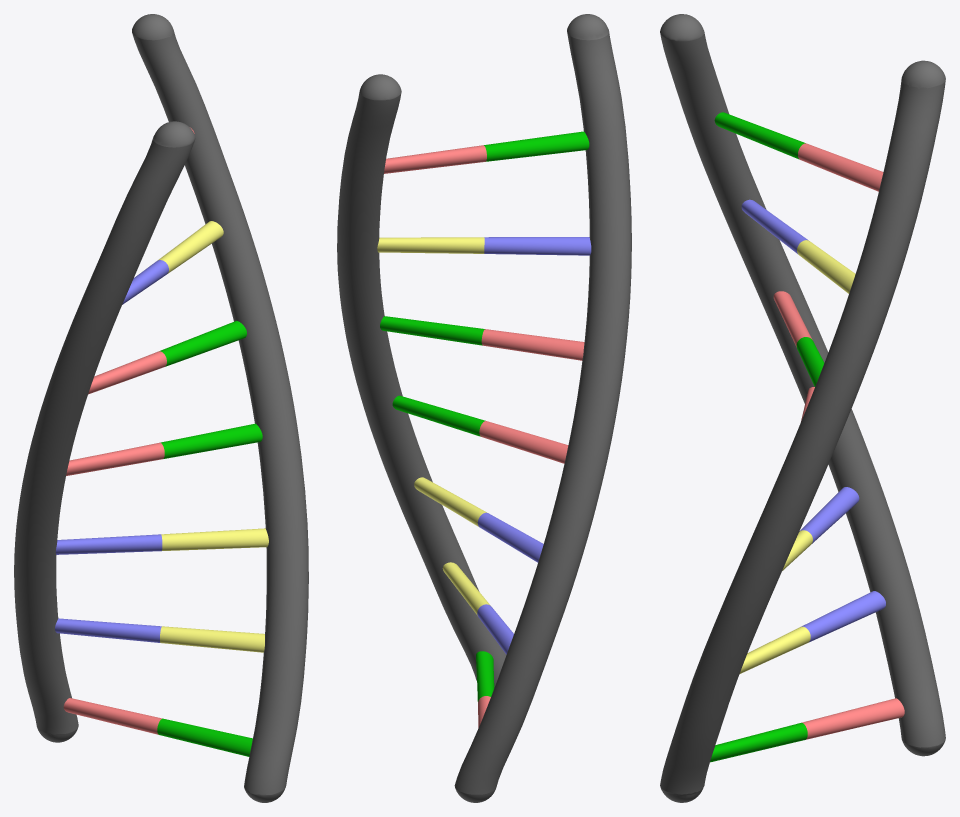
Rendered from DNA.glb.
The picture shows the model from 3 angles, left to right: view 1: azimuth 30°, elevation 25°; view 2: azimuth 150°, elevation 25°; view 3: azimuth 270°, elevation 25°; orthographic projection. The views are drawn at different scales.
Parts seen in each view (by area): view 1: Flex21 - Part 4, Flex22 - Part 3, Flex21 - Part 3, Flex21 - Part 2, Flex22 - Part 4, Flex22 - Part 5; view 2: Flex22 - Part 3, Flex21 - Part 4, Flex22 - Part 5, Flex21 - Part 3, Flex21 - Part 2, Flex22 - Part 4, Flex22 - Part 2, Flex21 - Part 5; view 3: Flex21 - Part 4, Flex22 - Part 3, Flex22 - Part 5, Flex21 - Part 2, Flex22 - Part 4, Flex21 - Part 3, Flex21 - Part 5, Flex22 - Part 2.
Boxes of the visible parts, bbox=[...] form: Flex21 - Part 4: bbox=[132, 14, 308, 802]; Flex22 - Part 3: bbox=[14, 121, 195, 742]; Flex21 - Part 3: bbox=[157, 320, 262, 756]; Flex21 - Part 2: bbox=[158, 221, 268, 652]; Flex22 - Part 4: bbox=[63, 351, 166, 734]; Flex22 - Part 5: bbox=[55, 260, 168, 642]; Flex22 - Part 3: bbox=[454, 14, 631, 802]; Flex21 - Part 4: bbox=[337, 74, 506, 687]; Flex22 - Part 5: bbox=[477, 237, 591, 654]; Flex21 - Part 3: bbox=[380, 316, 494, 701]; Flex21 - Part 2: bbox=[377, 237, 490, 615]; Flex22 - Part 4: bbox=[478, 329, 584, 727]; Flex22 - Part 2: bbox=[484, 131, 589, 161]; Flex21 - Part 5: bbox=[384, 145, 486, 173]; Flex21 - Part 4: bbox=[660, 60, 945, 802]; Flex22 - Part 3: bbox=[660, 14, 945, 756]; Flex22 - Part 5: bbox=[741, 199, 885, 642]; Flex21 - Part 2: bbox=[739, 240, 855, 673]; Flex22 - Part 4: bbox=[773, 291, 904, 739]; Flex21 - Part 3: bbox=[710, 337, 824, 762]; Flex21 - Part 5: bbox=[798, 143, 883, 191]; Flex22 - Part 2: bbox=[714, 112, 805, 159].
Bounding box in the file's own units: 0.035 × 0.0919 × 0.0322.
